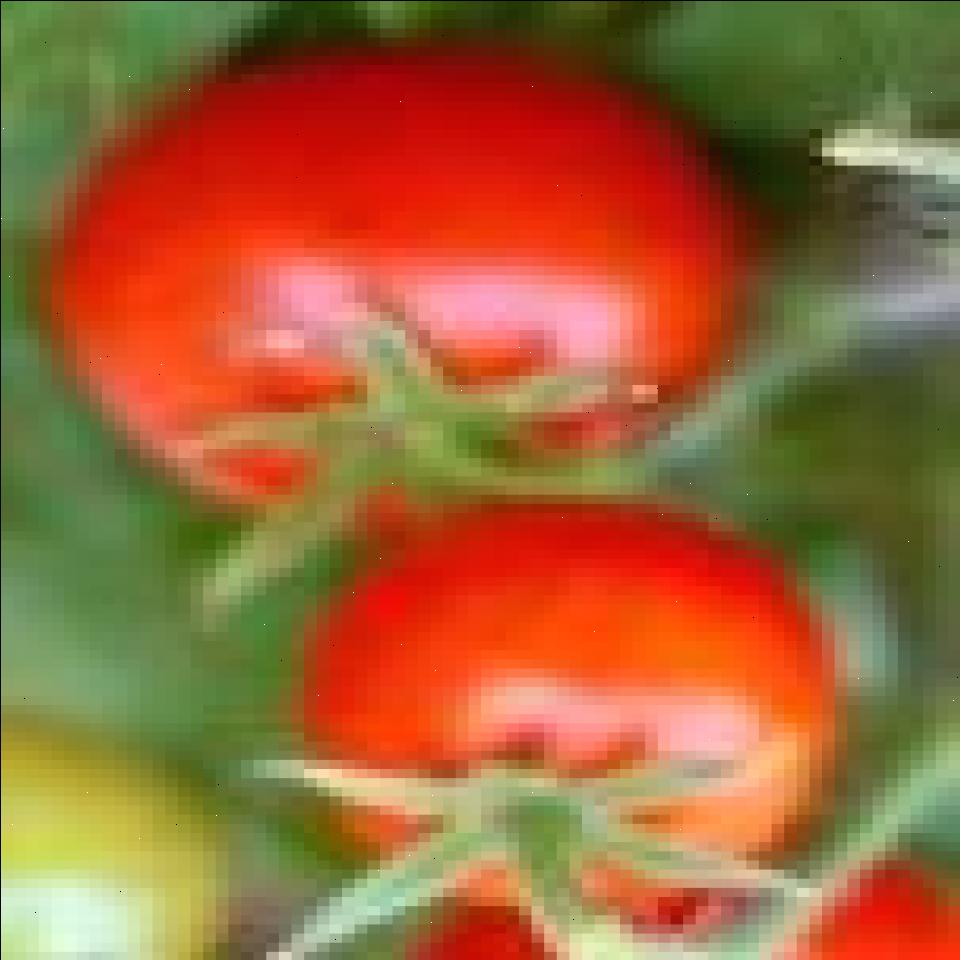Healthy: (47, 0, 752, 548), (309, 518, 833, 923)
